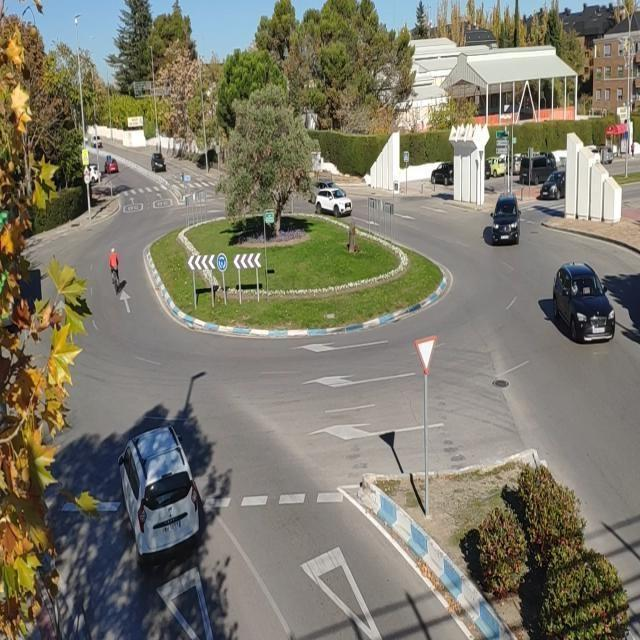Car: (116, 423, 202, 567), (552, 260, 616, 345), (489, 193, 522, 247), (314, 187, 354, 218), (538, 170, 566, 201), (150, 152, 166, 173), (104, 158, 119, 174)
Cycle: (110, 268, 120, 298)
Van: (519, 156, 559, 184)
